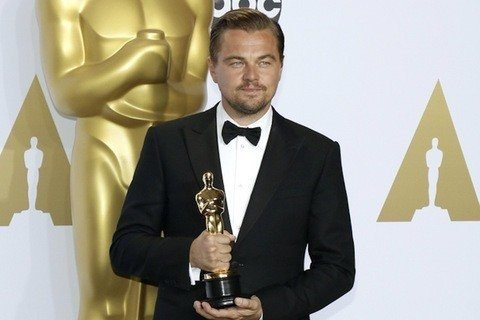bad: (218, 46, 280, 108)
